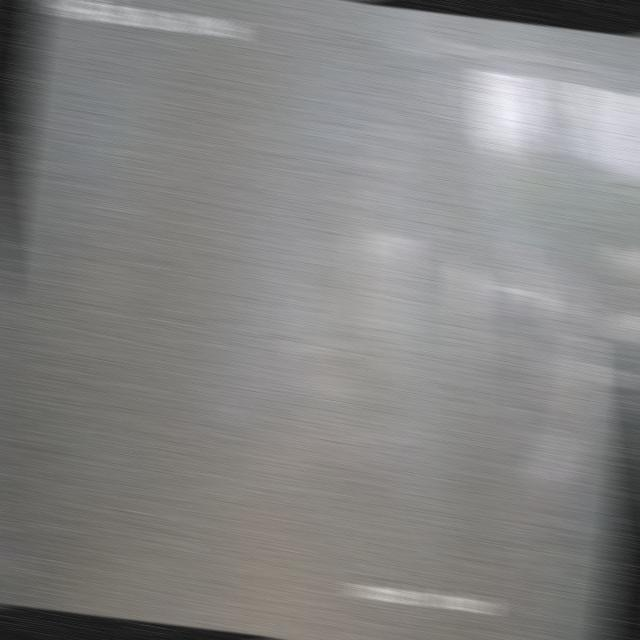cement_mixer_truck: (263, 205, 602, 539)
